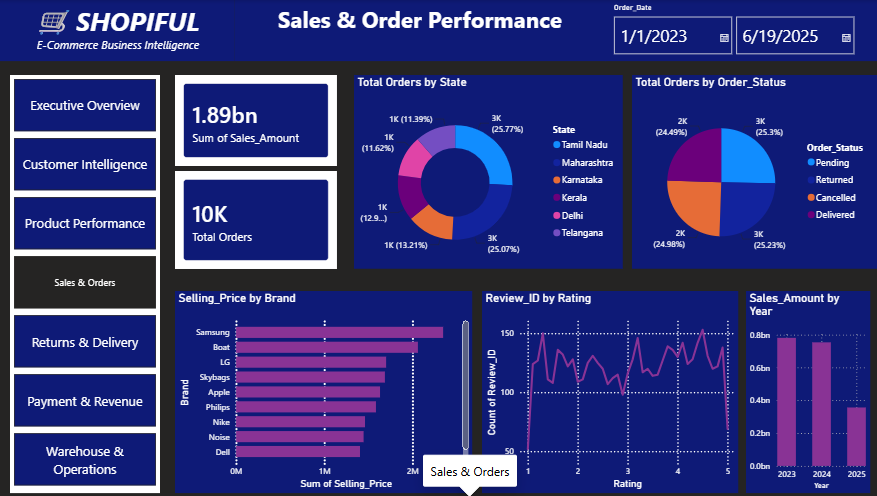

What the dashboard file says about the page in this screenshot:
{"tool":"powerbi","page":{"name":"Sales & Orders","canvas":[1280,720],"ordinal":3},"visuals":[{"type":"textbox","box":[0,0,341.3,87.8],"z":0},{"type":"clusteredBarChart","title":"Selling_Price by Brand","fields":{"Category":["cartnova products.Brand"],"Y":["Sum(cartnova products.Selling_Price)"]},"box":[254.9,419,427.7,290.9],"z":1000},{"type":"lineChart","title":"Review_ID by Rating","fields":{"Y":["CountNonNull(cartnova reviews.Review_ID)"],"Category":["cartnova reviews.Rating"]},"box":[697,419,368.6,290.9],"z":2000},{"type":"clusteredColumnChart","title":" Sales_Amount by Year","fields":{"Category":["cartnova orders.Order_Date.Variation.Date Hierarchy.Year"],"Y":["Sum(cartnova order_items.Sales_Amount)"]},"box":[1077.1,419,178.6,290.9],"z":3000},{"type":"donutChart","fields":{"Y":["cartnova orders.Total Orders"],"Category":["cartnova customers.State"]},"box":[512.6,108,387.4,279.4],"z":4000},{"type":"cardVisual","fields":{"Data":["Sum(cartnova order_items.Sales_Amount)"]},"box":[254.9,108,233.3,131],"z":5000},{"type":"cardVisual","fields":{"Data":["cartnova orders.Total Orders"]},"box":[254.9,246.2,233.3,141.1],"z":6000},{"type":"pieChart","fields":{"Category":["cartnova orders.Order_Status"],"Y":["cartnova orders.Total Orders"]},"box":[913,108,355,279],"z":7000},{"type":"slicer","fields":{"Values":["cartnova orders.Order_Date"]},"box":[873.9,0,406.1,87.8],"z":8000},{"type":"textbox","box":[341.3,0,532.8,87.8],"z":9000},{"type":"pageNavigator","box":[17.3,108,216,601.9],"z":10000}]}

Visuals, with their boxes on the page's 1280x720 design canvas (x1, y1, x2, y2). These are canvas units, not pixel positions in the 877x496 screenshot, which may show the page scaled, cropped or inside an application window:
textbox: 0, 0, 341, 88
"Selling_Price by Brand" clusteredBarChart: 255, 419, 683, 710
"Review_ID by Rating" lineChart: 697, 419, 1066, 710
" Sales_Amount by Year" clusteredColumnChart: 1077, 419, 1256, 710
donutChart - cartnova orders.Total Orders x cartnova customers.State: 513, 108, 900, 387
cardVisual - Sum(cartnova order_items.Sales_Amount): 255, 108, 488, 239
cardVisual - cartnova orders.Total Orders: 255, 246, 488, 387
pieChart - cartnova orders.Order_Status x cartnova orders.Total Orders: 913, 108, 1268, 387
slicer - cartnova orders.Order_Date: 874, 0, 1280, 88
textbox: 341, 0, 874, 88
pageNavigator: 17, 108, 233, 710
